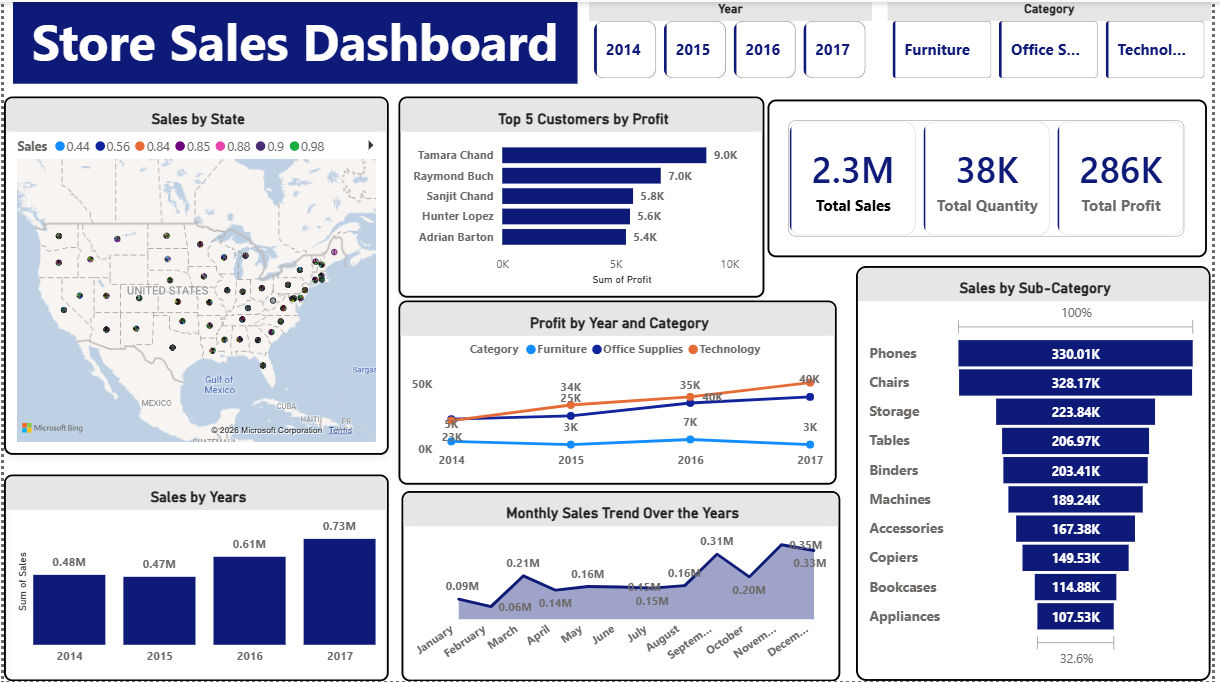

The dashboard page shown, as its layout file describes it:
{"tool":"powerbi","page":{"name":"Page 1","canvas":[1280,720],"ordinal":0},"visuals":[{"type":"textbox","box":[10,0,598.3,86.7],"z":0},{"type":"funnel","title":"Sales by Sub-Category","fields":{"Category":["sales_data_cleaned.Sub-Category"],"Y":["Sum(sales_data_cleaned.Sales)"]},"box":[903.3,279.7,376.1,440.3],"z":1000},{"type":"clusteredBarChart","title":"Top 5 Customers by Profit","fields":{"Category":["sales_data_cleaned.Customer Name"],"Y":["Sum(sales_data_cleaned.Profit)"]},"box":[418.3,100.2,388.1,213.1],"z":2000},{"type":"areaChart","title":"Monthly Sales Trend Over the Years","fields":{"Y":["Sum(sales_data_cleaned.Sales)"],"Category":["sales_data_cleaned.Order Date.Variation.Date Hierarchy.Month"]},"box":[421.7,518.3,465,201.7],"z":3000},{"type":"map","title":"Sales by State","fields":{"Category":["sales_data_cleaned.State"],"Series":["sales_data_cleaned.Sales"]},"box":[0,100.2,408.2,379.8],"z":4000},{"type":"lineChart","title":"Profit by Year and Category","fields":{"Category":["sales_data_cleaned.Order Date.Variation.Date Hierarchy.Year"],"Y":["Sum(sales_data_cleaned.Profit)"],"Series":["sales_data_cleaned.Category"]},"box":[418.3,316.5,464.5,195.6],"z":5000},{"type":"columnChart","title":"Sales by Years","fields":{"Category":["sales_data_cleaned.Order Date.Variation.Date Hierarchy.Year"],"Y":["Sum(sales_data_cleaned.Sales)"]},"box":[0,500.8,408.2,219.2],"z":6000},{"type":"advancedSlicerVisual","fields":{"Values":["sales_data_cleaned.Category"]},"box":[936.7,0,343.3,86.7],"z":7000},{"type":"advancedSlicerVisual","fields":{"Values":["sales_data_cleaned.Order Date.Variation.Date Hierarchy.Year"]},"box":[620,0,300,86.7],"z":8000},{"type":"cardVisual","fields":{"Data":["Sum(sales_data_cleaned.Sales)","Sum(sales_data_cleaned.Quantity)","Sum(sales_data_cleaned.Profit)"]},"box":[809.6,103.4,466,167],"z":9000}]}

Visuals, with their boxes in screenshot pixels (x1, y1, x2, y2), scaled from the page's 1280x720 canvas onto the 1220x682 screenshot:
textbox: detection(10, 0, 580, 82)
"Sales by Sub-Category" funnel: detection(861, 265, 1219, 681)
"Top 5 Customers by Profit" clusteredBarChart: detection(399, 95, 769, 297)
"Monthly Sales Trend Over the Years" areaChart: detection(402, 491, 845, 681)
"Sales by State" map: detection(0, 95, 389, 455)
"Profit by Year and Category" lineChart: detection(399, 300, 841, 485)
"Sales by Years" columnChart: detection(0, 474, 389, 681)
advancedSlicerVisual - sales_data_cleaned.Category: detection(893, 0, 1219, 82)
advancedSlicerVisual - sales_data_cleaned.Order Date.Variation.Date Hierarchy.Year: detection(591, 0, 877, 82)
cardVisual - Sum(sales_data_cleaned.Sales) x Sum(sales_data_cleaned.Quantity): detection(772, 98, 1216, 256)
